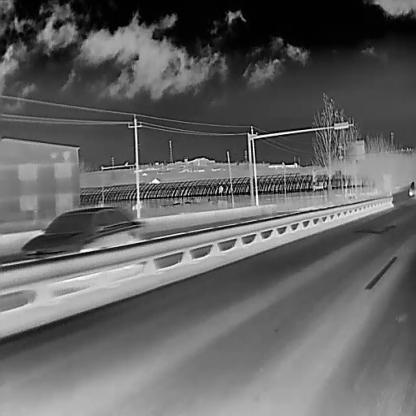car: (18, 206, 145, 263), (408, 180, 415, 196)
